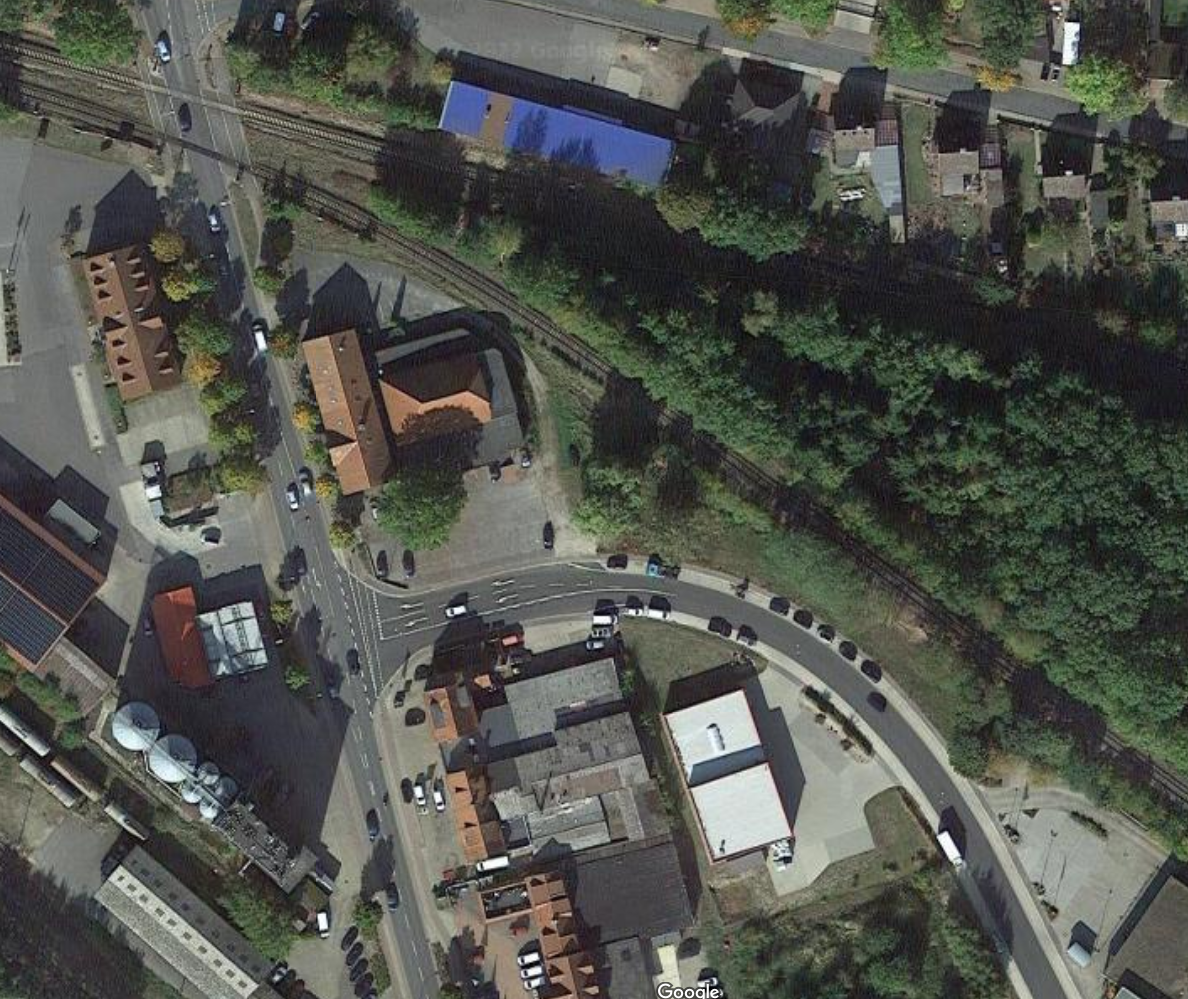car: (476, 856, 509, 873), (251, 323, 269, 353), (297, 470, 313, 497), (709, 620, 731, 637), (156, 40, 172, 63), (316, 911, 329, 939), (177, 108, 191, 132), (284, 490, 299, 512), (647, 608, 670, 622), (517, 952, 540, 966), (523, 976, 546, 990), (444, 605, 468, 618), (521, 965, 543, 979), (413, 785, 426, 806), (433, 790, 445, 812), (207, 213, 220, 233), (737, 634, 756, 647), (623, 606, 643, 617), (817, 629, 832, 643)
